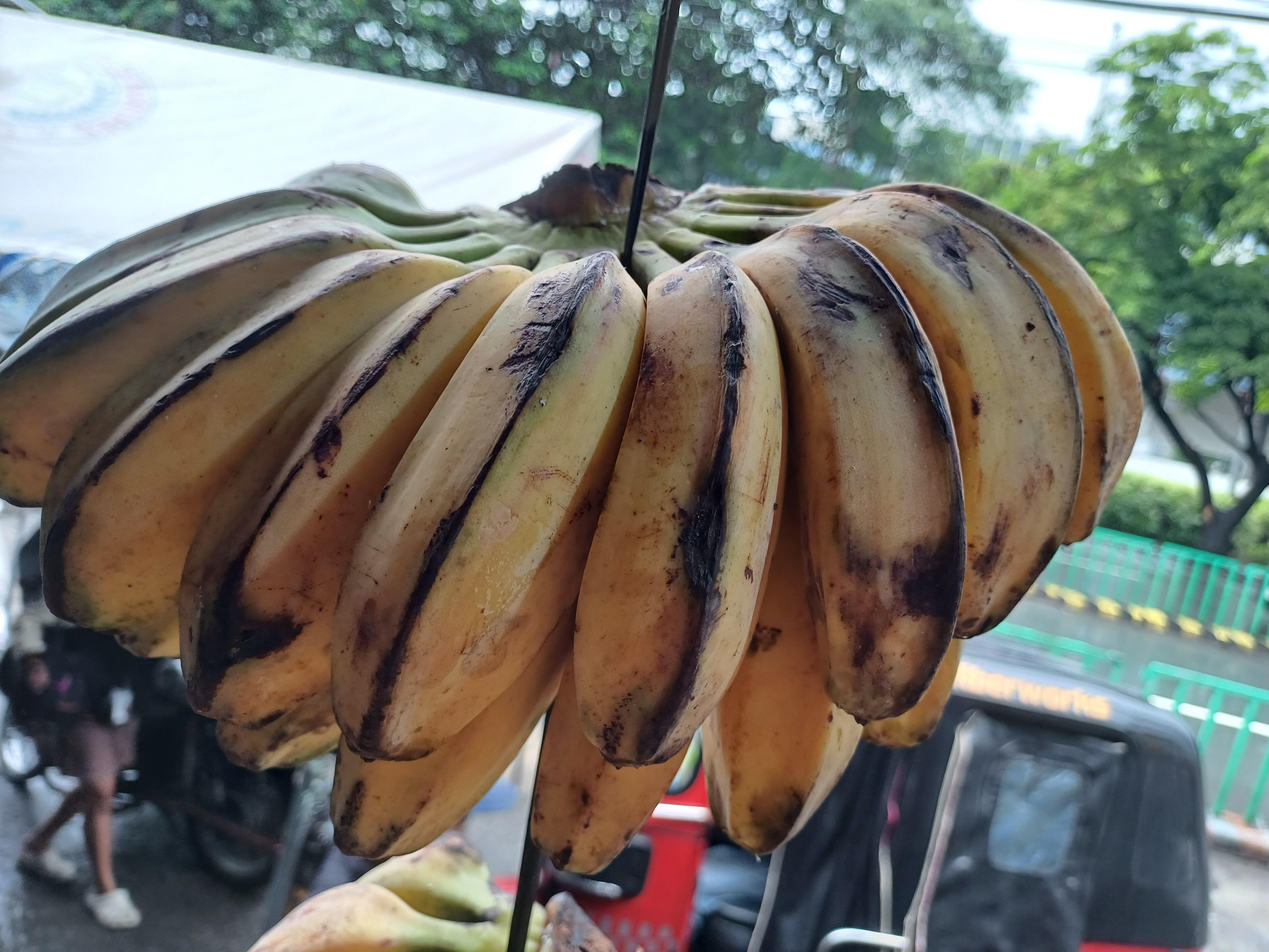ripe: (0, 159, 1148, 873)
